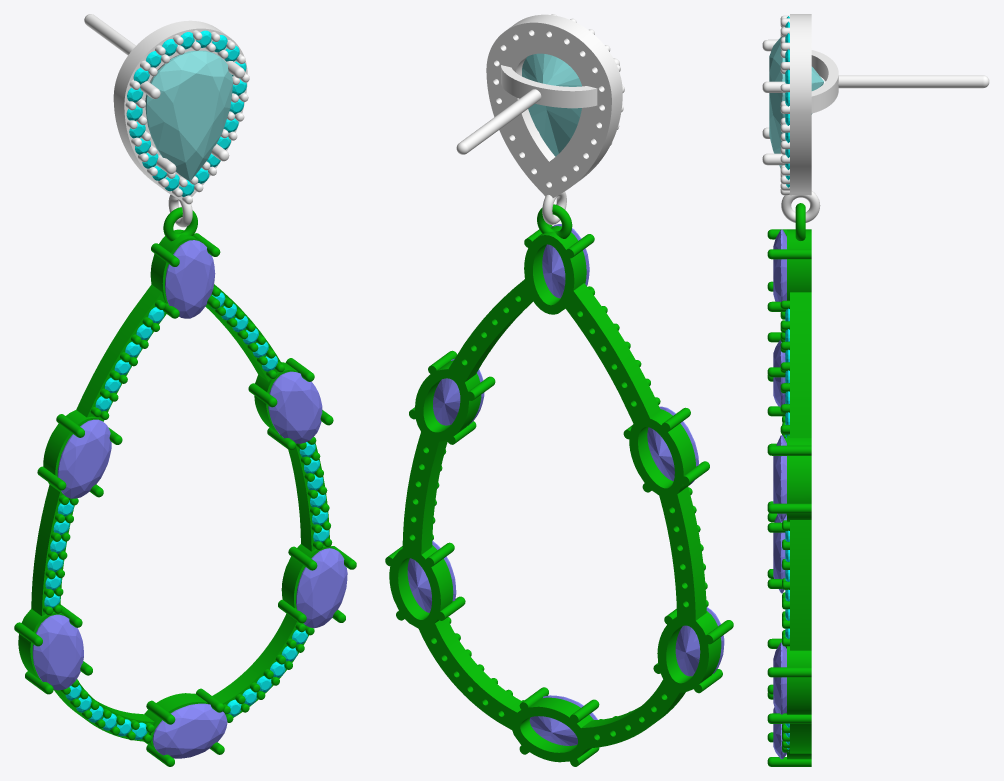
3 renders of one model, left to right at view 1: azimuth 30°, elevation 25°; view 2: azimuth 150°, elevation 25°; view 3: azimuth 270°, elevation 25°, orthographic.
Visible parts, largest first — view 1: Brinco Jazz.3dm; view 2: Brinco Jazz.3dm; view 3: Brinco Jazz.3dm.
Part boxes in pixels (<box>): Brinco Jazz.3dm: <box>14,14,356,766</box>; Brinco Jazz.3dm: <box>385,14,733,766</box>; Brinco Jazz.3dm: <box>762,14,989,766</box>.
Bounding box in the file's own units: 1.64 × 3.51 × 0.986.
